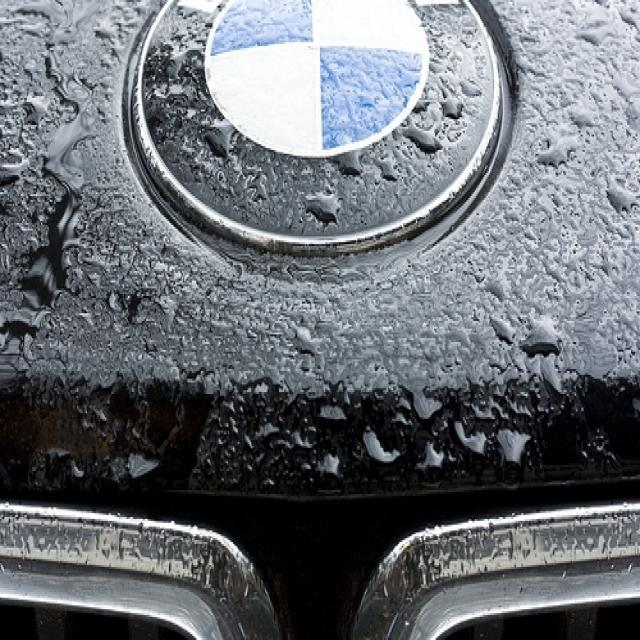bmw: (127, 3, 511, 260)
